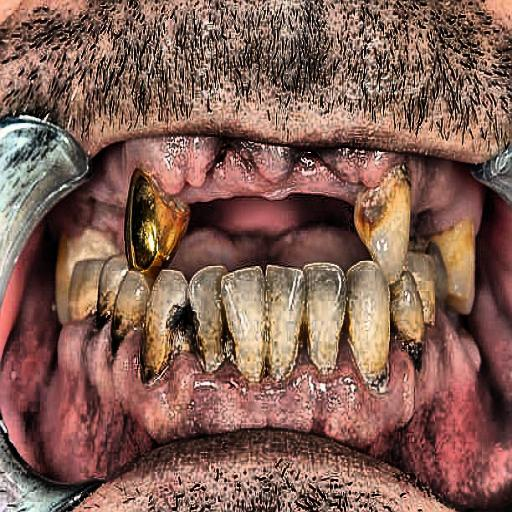Calculus: (45, 150, 484, 418)
